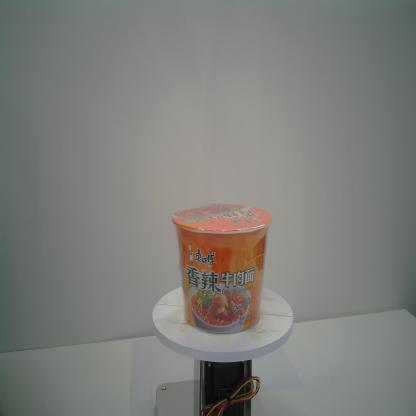Instant Noodles: (172, 202, 272, 336)
